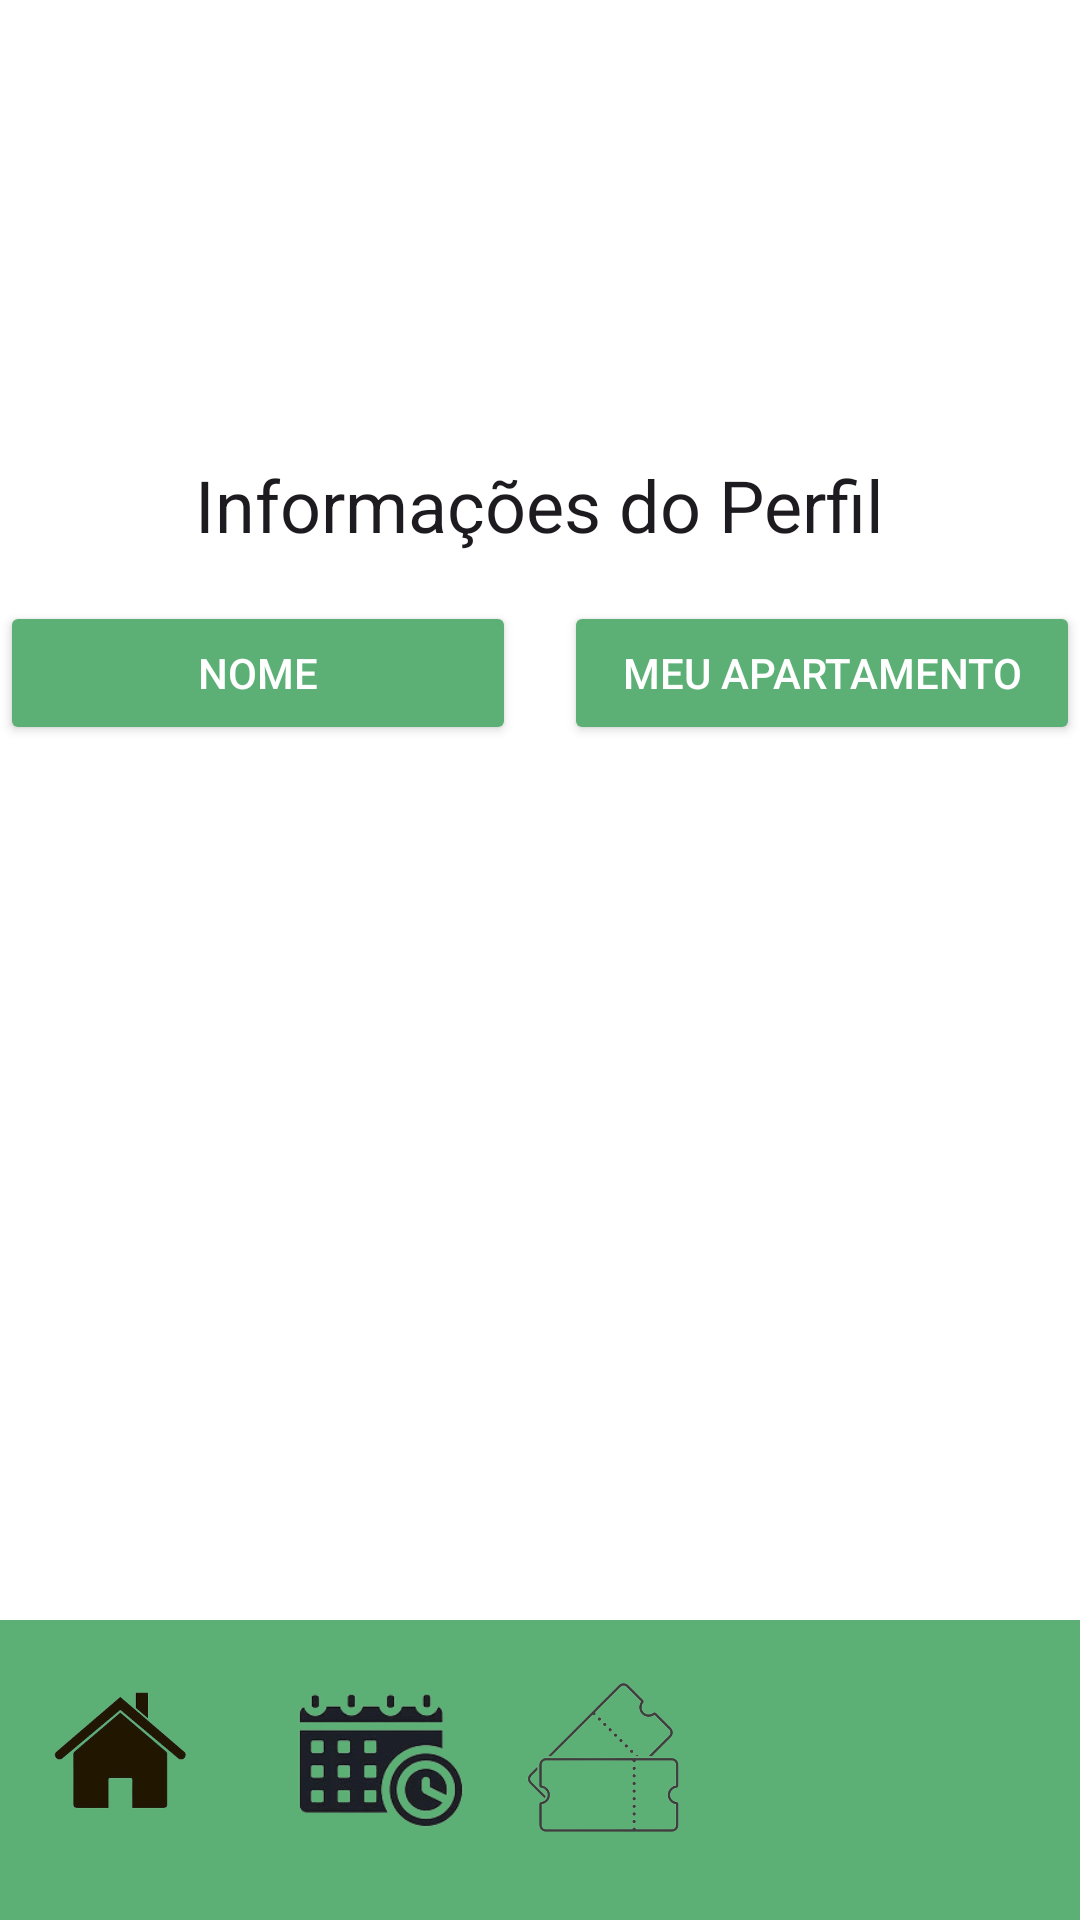

Where to tap for icons on this 1080px×1920px app screen, as (x=x, y=y):
home: (x=120, y=1750)
reserva: (x=381, y=1760)
ticket: (x=603, y=1757)
